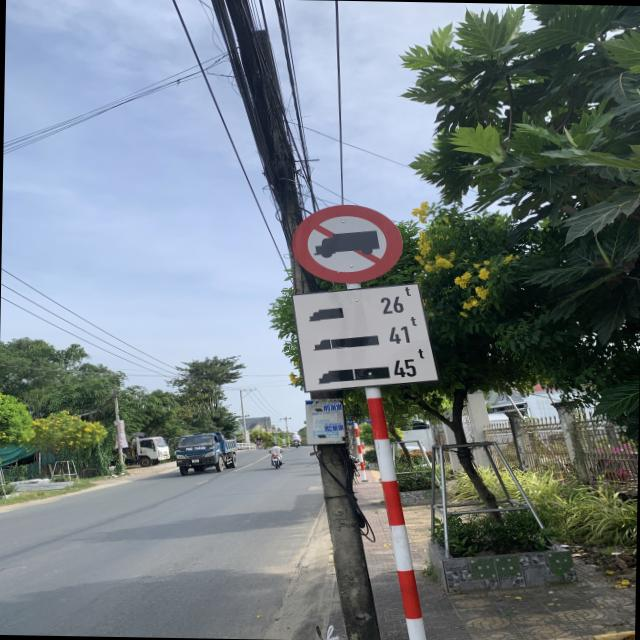Cam_Xe_Tai: (288, 202, 404, 284)
